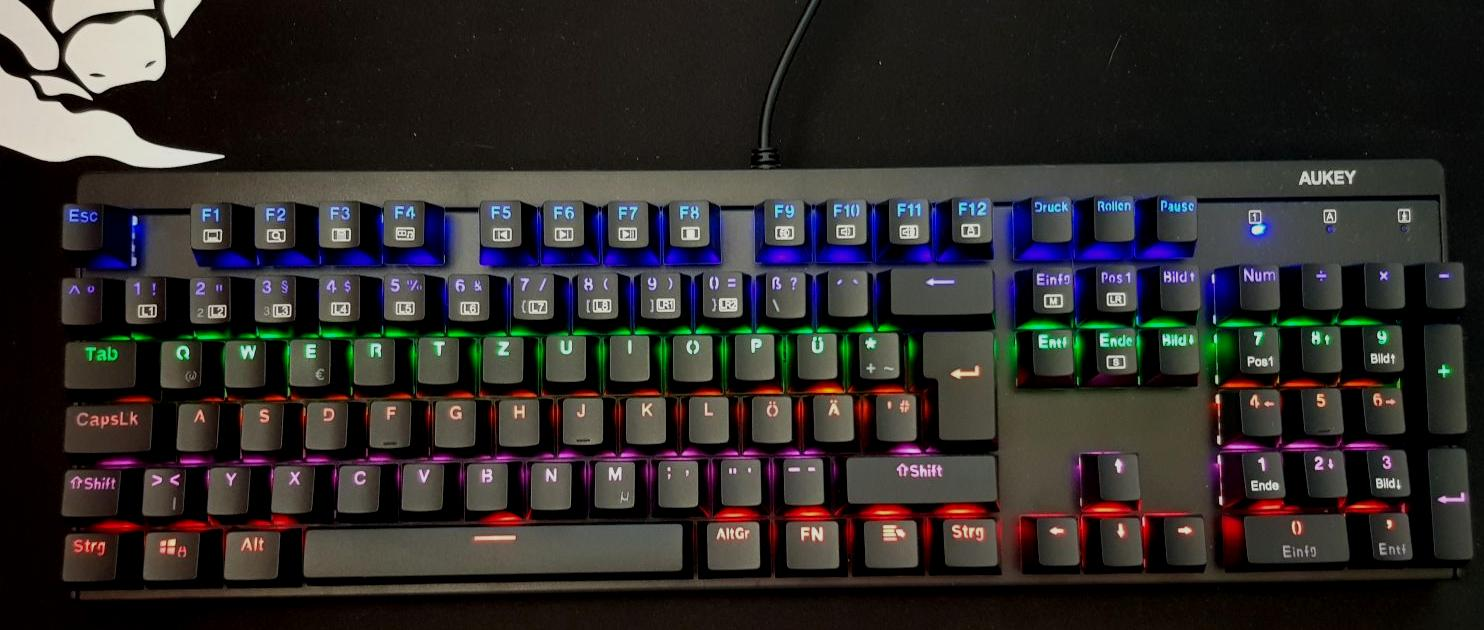0: (699, 268, 744, 320)
1: (122, 273, 168, 326)
2: (187, 271, 232, 325)
3: (253, 274, 297, 324)
4: (315, 273, 365, 327)
5: (379, 271, 429, 325)
6: (444, 269, 494, 323)
7: (508, 269, 557, 325)
8: (572, 266, 621, 322)
9: (635, 266, 684, 322)
a: (173, 397, 219, 451)
accent: (824, 265, 869, 316)
ae: (810, 390, 854, 442)
alt-left: (221, 529, 282, 581)
altgr-right: (700, 515, 763, 571)
b: (463, 456, 509, 510)
c: (335, 459, 382, 513)
caret: (58, 273, 103, 324)
comma: (655, 455, 699, 507)
d: (302, 396, 348, 449)
del: (886, 262, 993, 315)
e: (286, 335, 331, 387)
enter: (919, 326, 996, 442)
f: (367, 394, 411, 447)
g: (430, 393, 477, 447)
h: (496, 393, 540, 446)
hash: (873, 389, 917, 441)
i: (607, 330, 651, 380)
j: (559, 392, 604, 444)
k: (623, 392, 667, 444)
keyboard: (42, 152, 1484, 613)
l: (685, 391, 729, 443)
less: (139, 464, 185, 515)
m: (591, 455, 637, 509)
minus: (781, 453, 826, 503)
n: (528, 456, 573, 510)
o: (670, 330, 714, 381)
oe: (749, 391, 793, 443)
p: (731, 329, 776, 379)
plus: (853, 328, 900, 379)
point: (718, 454, 762, 504)
q: (156, 337, 203, 389)
r: (351, 334, 396, 385)
s: (238, 397, 284, 450)
shift-left: (58, 464, 121, 516)
shift-lock: (59, 398, 153, 453)
shift-right: (842, 451, 997, 502)
space: (298, 520, 685, 578)
ss: (762, 267, 807, 319)
strg-left: (58, 529, 119, 581)
strg-right: (937, 512, 1000, 568)
t: (415, 333, 459, 383)
tab: (60, 336, 137, 389)
u: (543, 330, 588, 381)
ue: (793, 328, 838, 379)
v: (399, 458, 445, 510)
w: (221, 336, 266, 387)
x: (270, 460, 315, 512)
y: (205, 462, 250, 514)
z: (481, 332, 524, 383)
